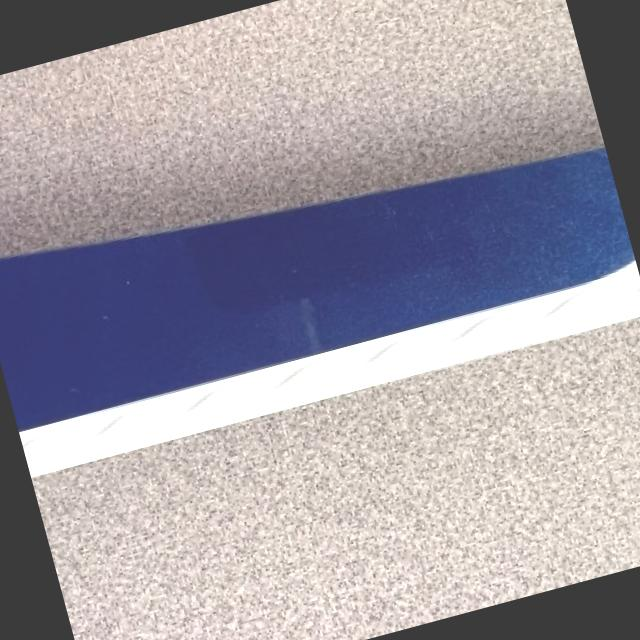healthy: (0, 145, 640, 475)
